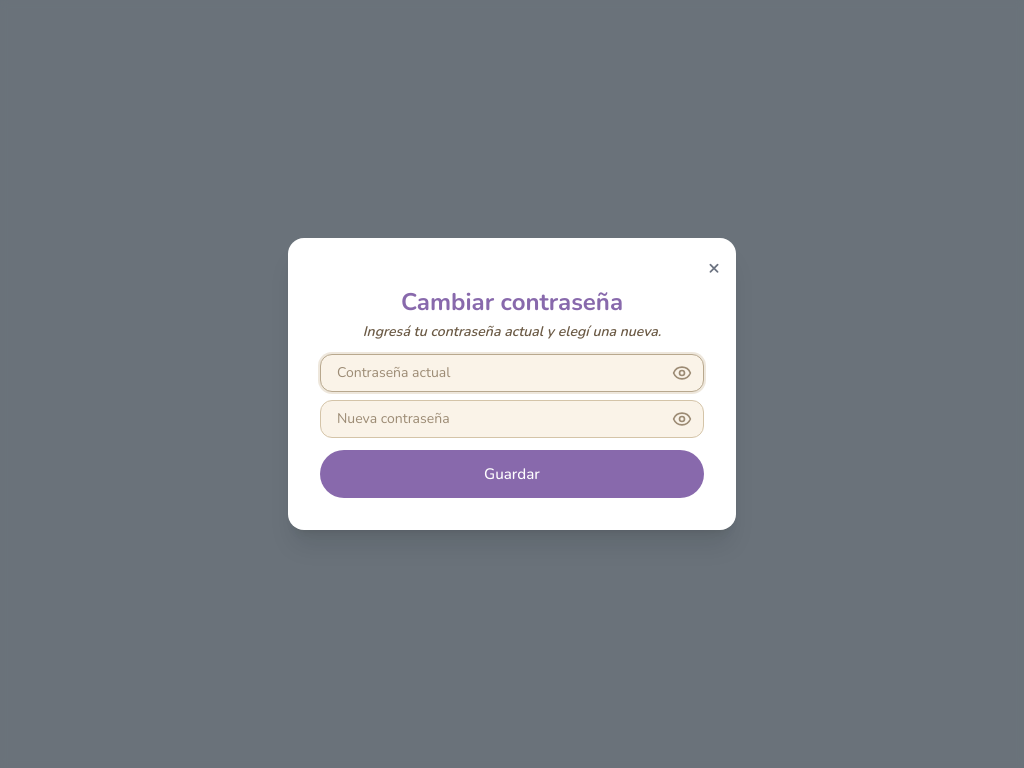
Test: ChangePasswordModal › muestra mensaje de éxito y limpia los campos tras el cambio
Type "currentPass123" into the password field with placeholder "Contraseña actual".
click(512, 373); type("currentPass123")  # box [320, 354, 704, 392]
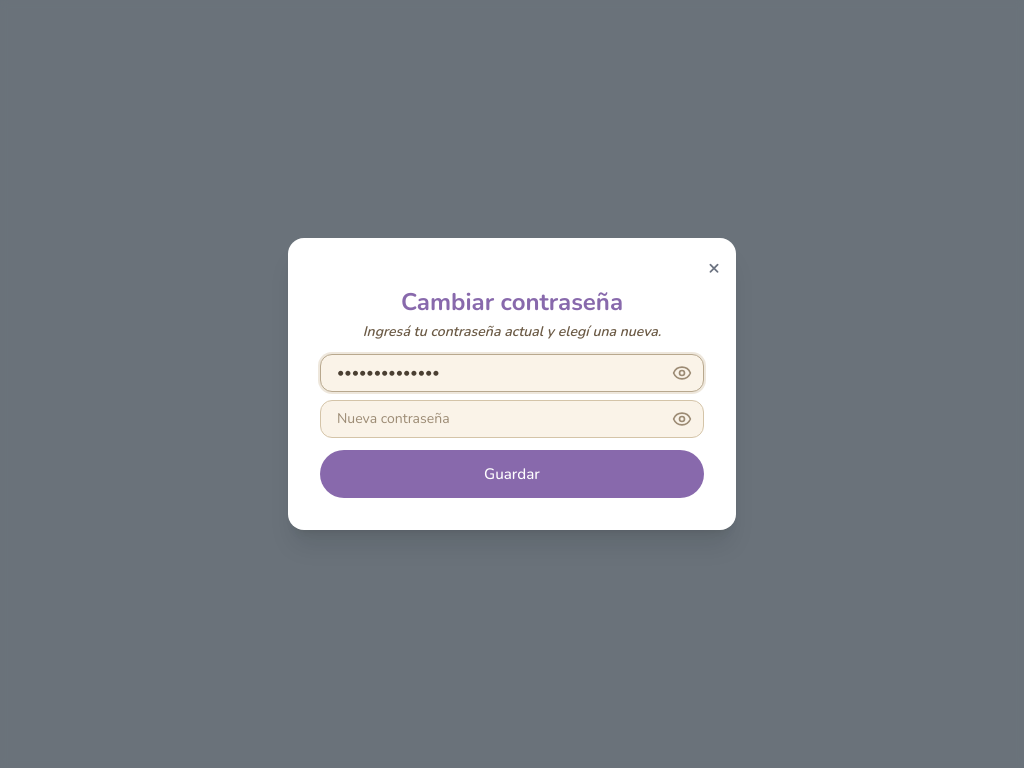
Type "newPass456" into the password field with placeholder "Nueva contraseña".
click(512, 419); type("newPass456")  # box [320, 400, 704, 438]
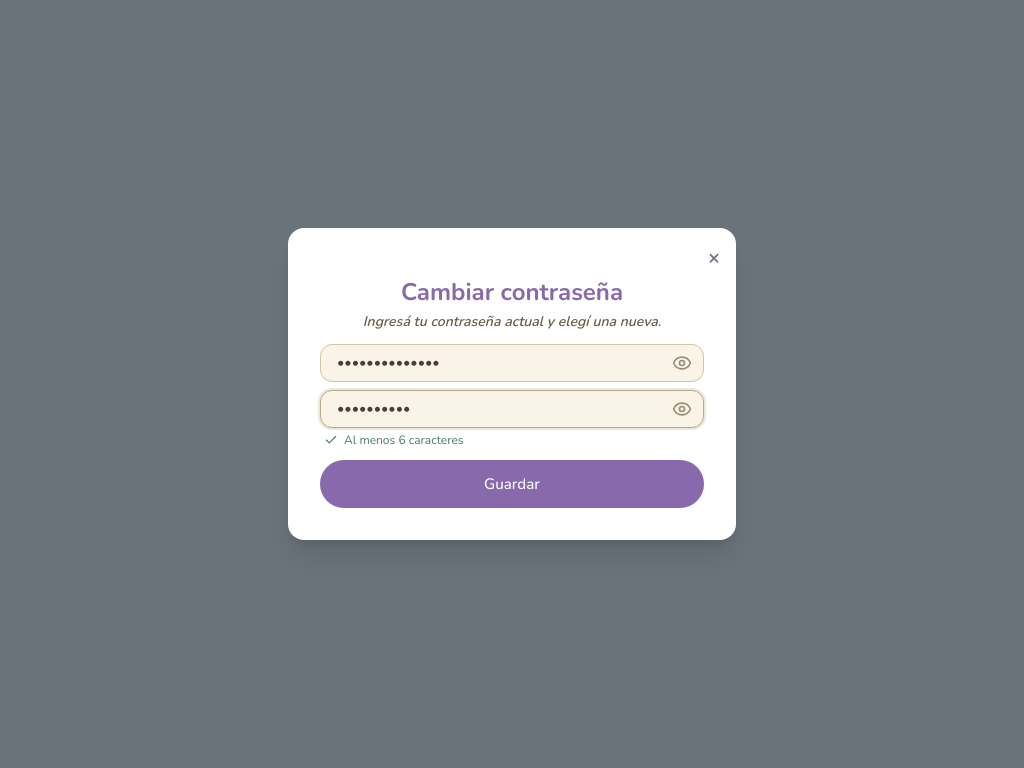
Click the button "Guardar".
click(512, 484)  # box [320, 460, 704, 508]
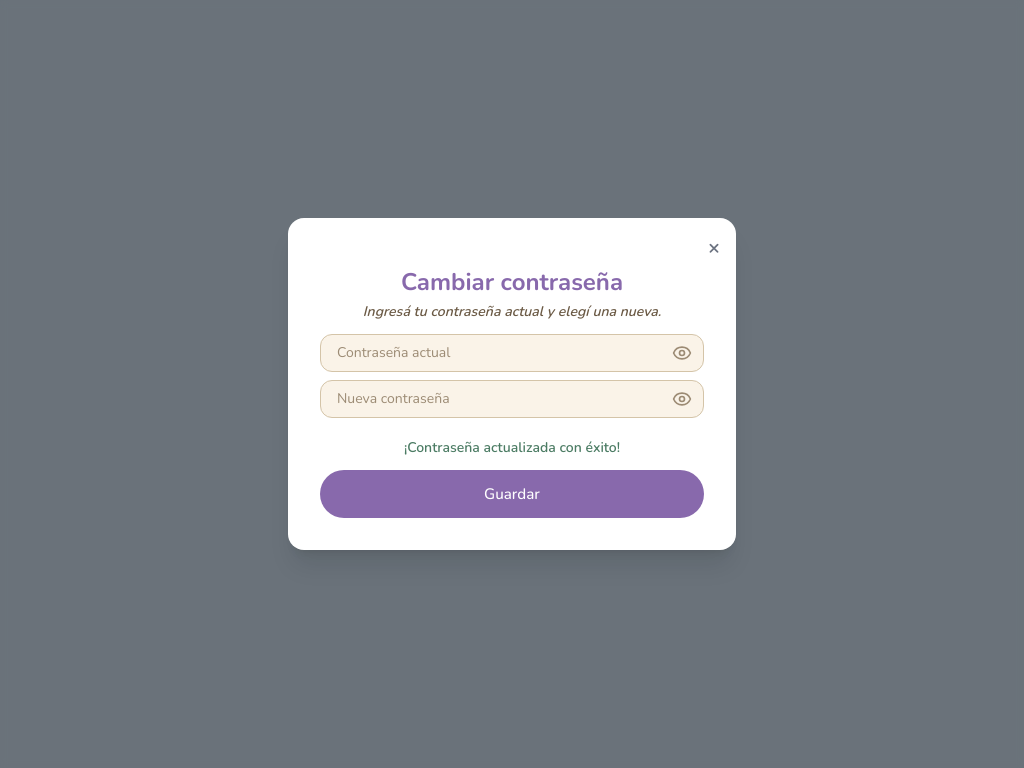
Now the text "¡Contraseña actualizada con éxito!" is shown, box [404, 438, 620, 457]
Now the password field with placeholder "Contraseña actual" is empty, box [320, 334, 704, 372]
Now the password field with placeholder "Nueva contraseña" is empty, box [320, 380, 704, 418]
